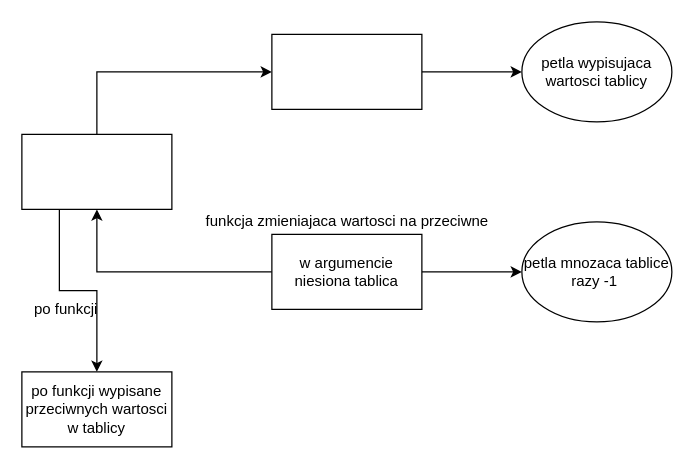
This 694x469 diagram has some shape labels left out. The shapes that lost their labels are listed below. From the top down, each one's box as (x1, y1, x2, y2) in pixels, then its label:
(271, 33, 422, 109): 10 elementowa tablica z wartosciami w srodku
(21, 133, 172, 209): main
